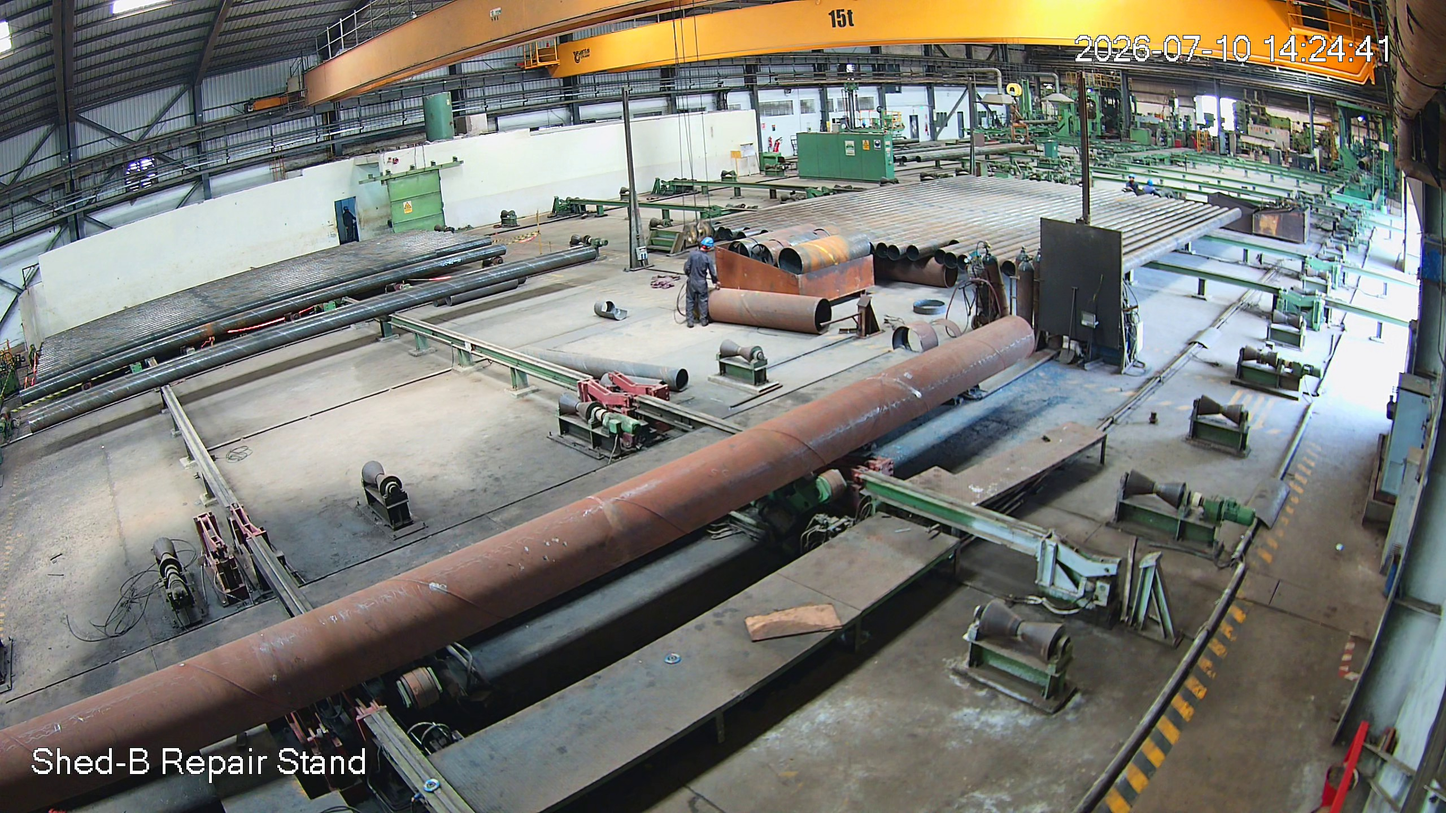Helmet: (696, 232, 720, 260)
Person: (683, 235, 717, 331)
